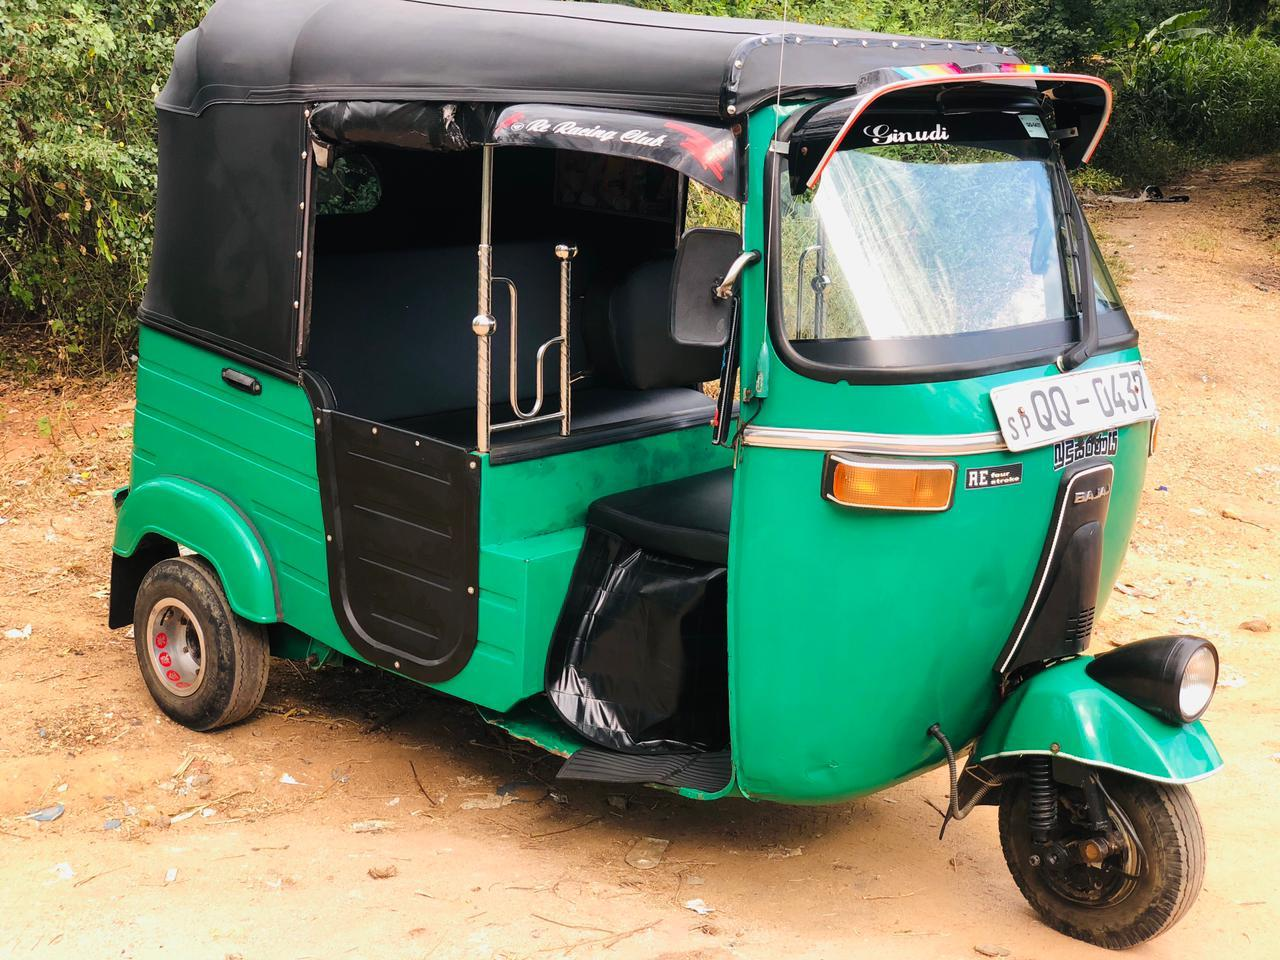threewheel: (109, 1, 1224, 949)
